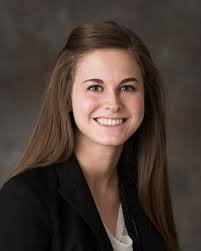noMask: (51, 22, 166, 149)
